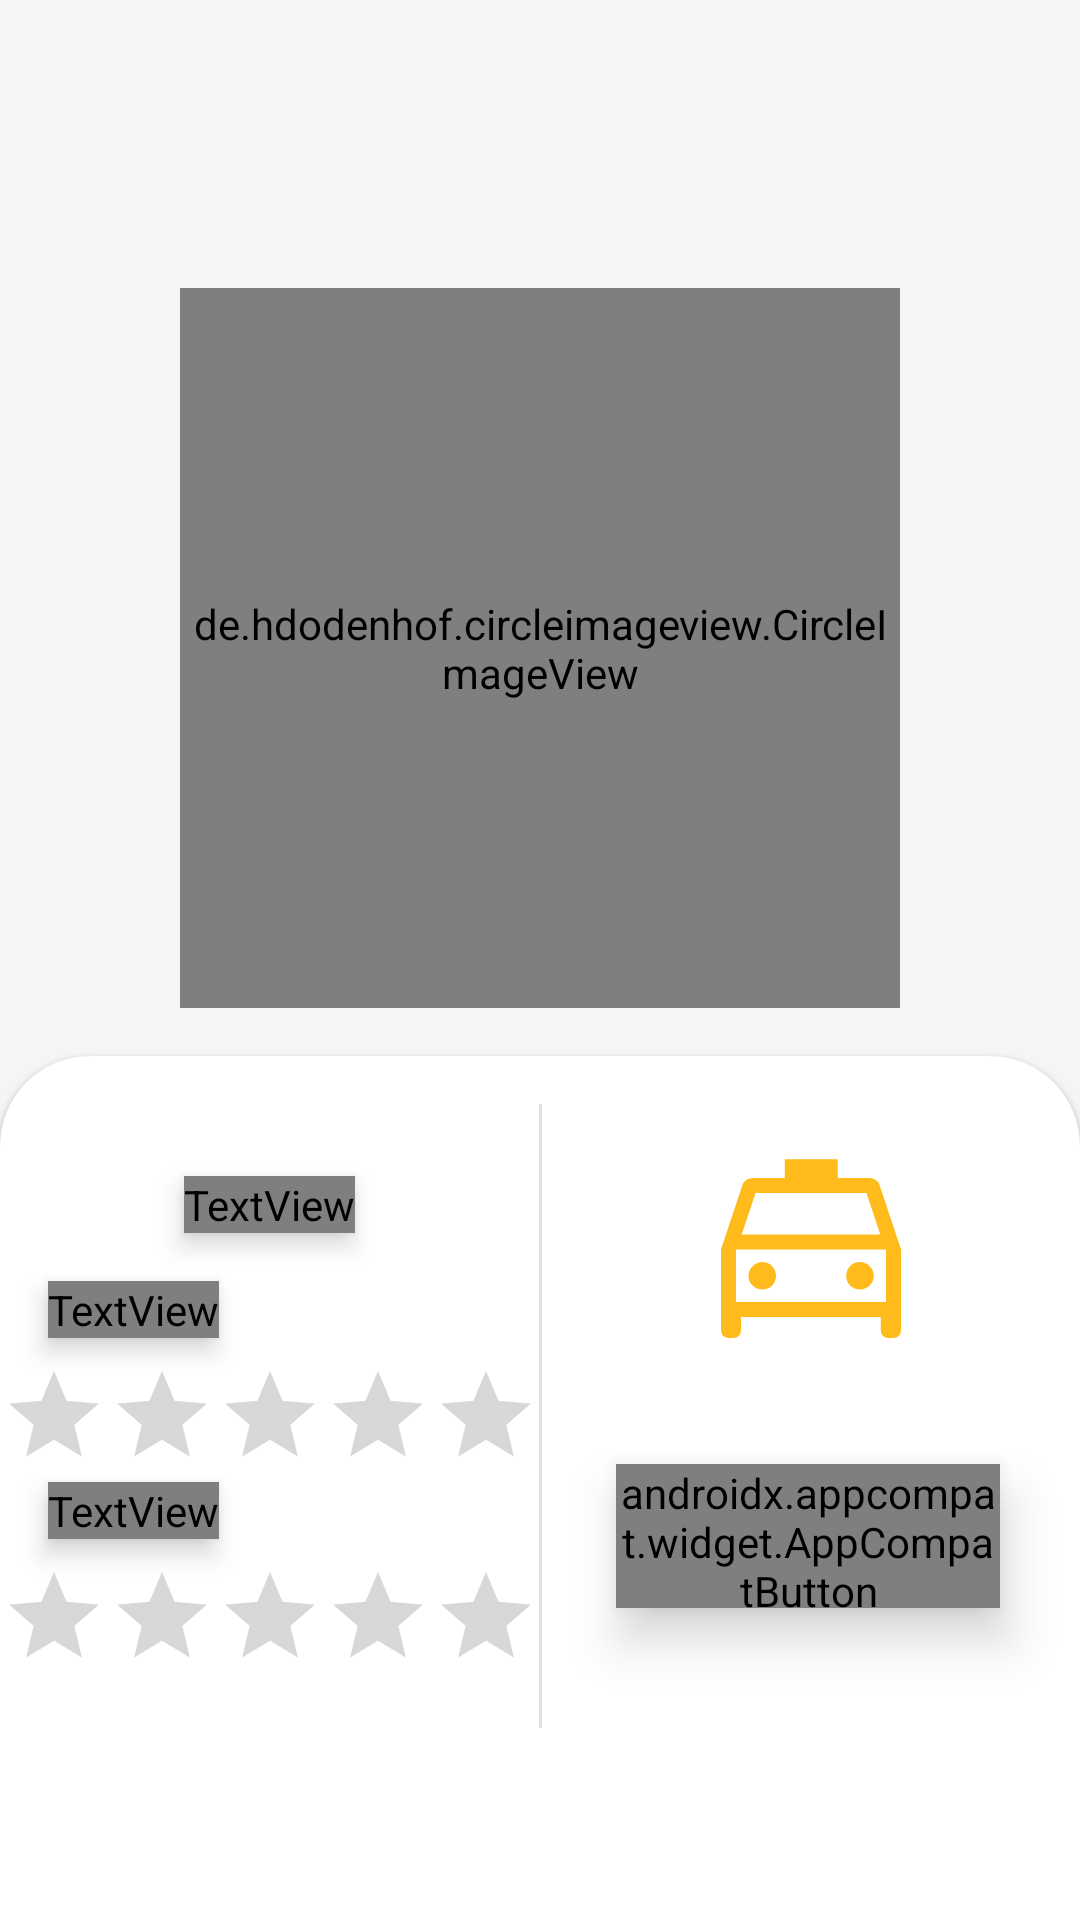

Where icons sit on this 1080px×1920px app screen, as (x1, y1, x2, y2):
local taxi: (721, 1159, 901, 1338)
